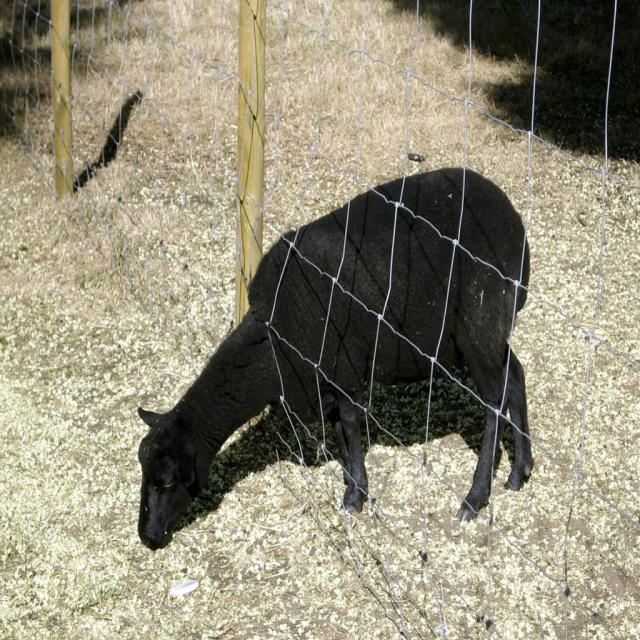Goat: (136, 165, 535, 549)
